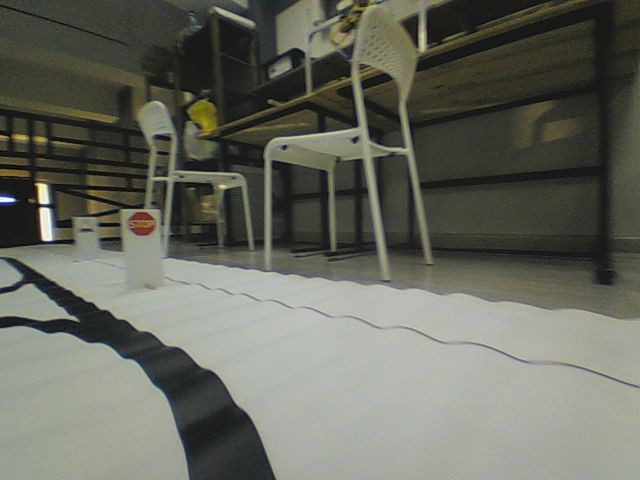Stop: (126, 210, 156, 238)
